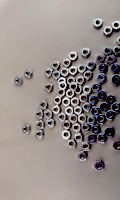nut: (94, 161, 106, 172), (78, 151, 89, 162), (88, 95, 98, 107), (91, 106, 101, 118), (94, 18, 104, 29), (105, 127, 116, 137), (98, 134, 108, 145), (97, 72, 107, 83), (99, 62, 109, 73), (72, 123, 82, 134), (35, 110, 45, 121), (53, 95, 62, 107), (104, 26, 114, 36), (81, 123, 91, 133), (107, 54, 117, 64), (106, 95, 116, 105), (101, 103, 111, 113), (96, 115, 106, 125), (78, 114, 88, 124), (35, 120, 45, 130), (58, 81, 68, 91), (76, 75, 86, 85), (57, 78, 67, 88), (82, 141, 91, 152), (62, 130, 71, 141), (87, 60, 96, 71), (69, 51, 78, 62), (98, 90, 107, 101), (83, 102, 92, 113), (87, 115, 96, 126), (62, 97, 71, 108), (38, 101, 49, 110), (66, 75, 75, 86), (24, 69, 33, 79), (14, 76, 23, 86), (45, 83, 54, 93), (22, 125, 31, 135), (36, 129, 45, 139), (47, 119, 56, 129), (75, 133, 84, 143), (111, 63, 120, 73), (78, 64, 87, 74), (84, 70, 93, 80), (106, 112, 116, 121), (62, 121, 72, 130), (70, 98, 80, 107), (74, 85, 83, 95), (79, 94, 89, 103), (44, 110, 53, 120), (69, 114, 78, 124), (112, 102, 120, 113), (61, 67, 69, 78), (52, 104, 60, 115), (68, 140, 77, 149), (97, 54, 106, 63), (69, 66, 78, 75), (65, 107, 74, 116), (112, 20, 120, 30), (88, 135, 96, 145), (112, 75, 120, 85), (82, 47, 90, 57), (104, 46, 112, 56), (92, 84, 102, 92), (63, 58, 71, 68), (84, 85, 92, 95), (113, 45, 120, 56), (45, 67, 52, 78), (52, 61, 60, 70), (52, 70, 60, 79), (75, 106, 82, 116), (70, 82, 77, 92), (114, 141, 120, 152), (67, 90, 75, 98), (57, 90, 65, 96), (117, 36, 120, 46)
